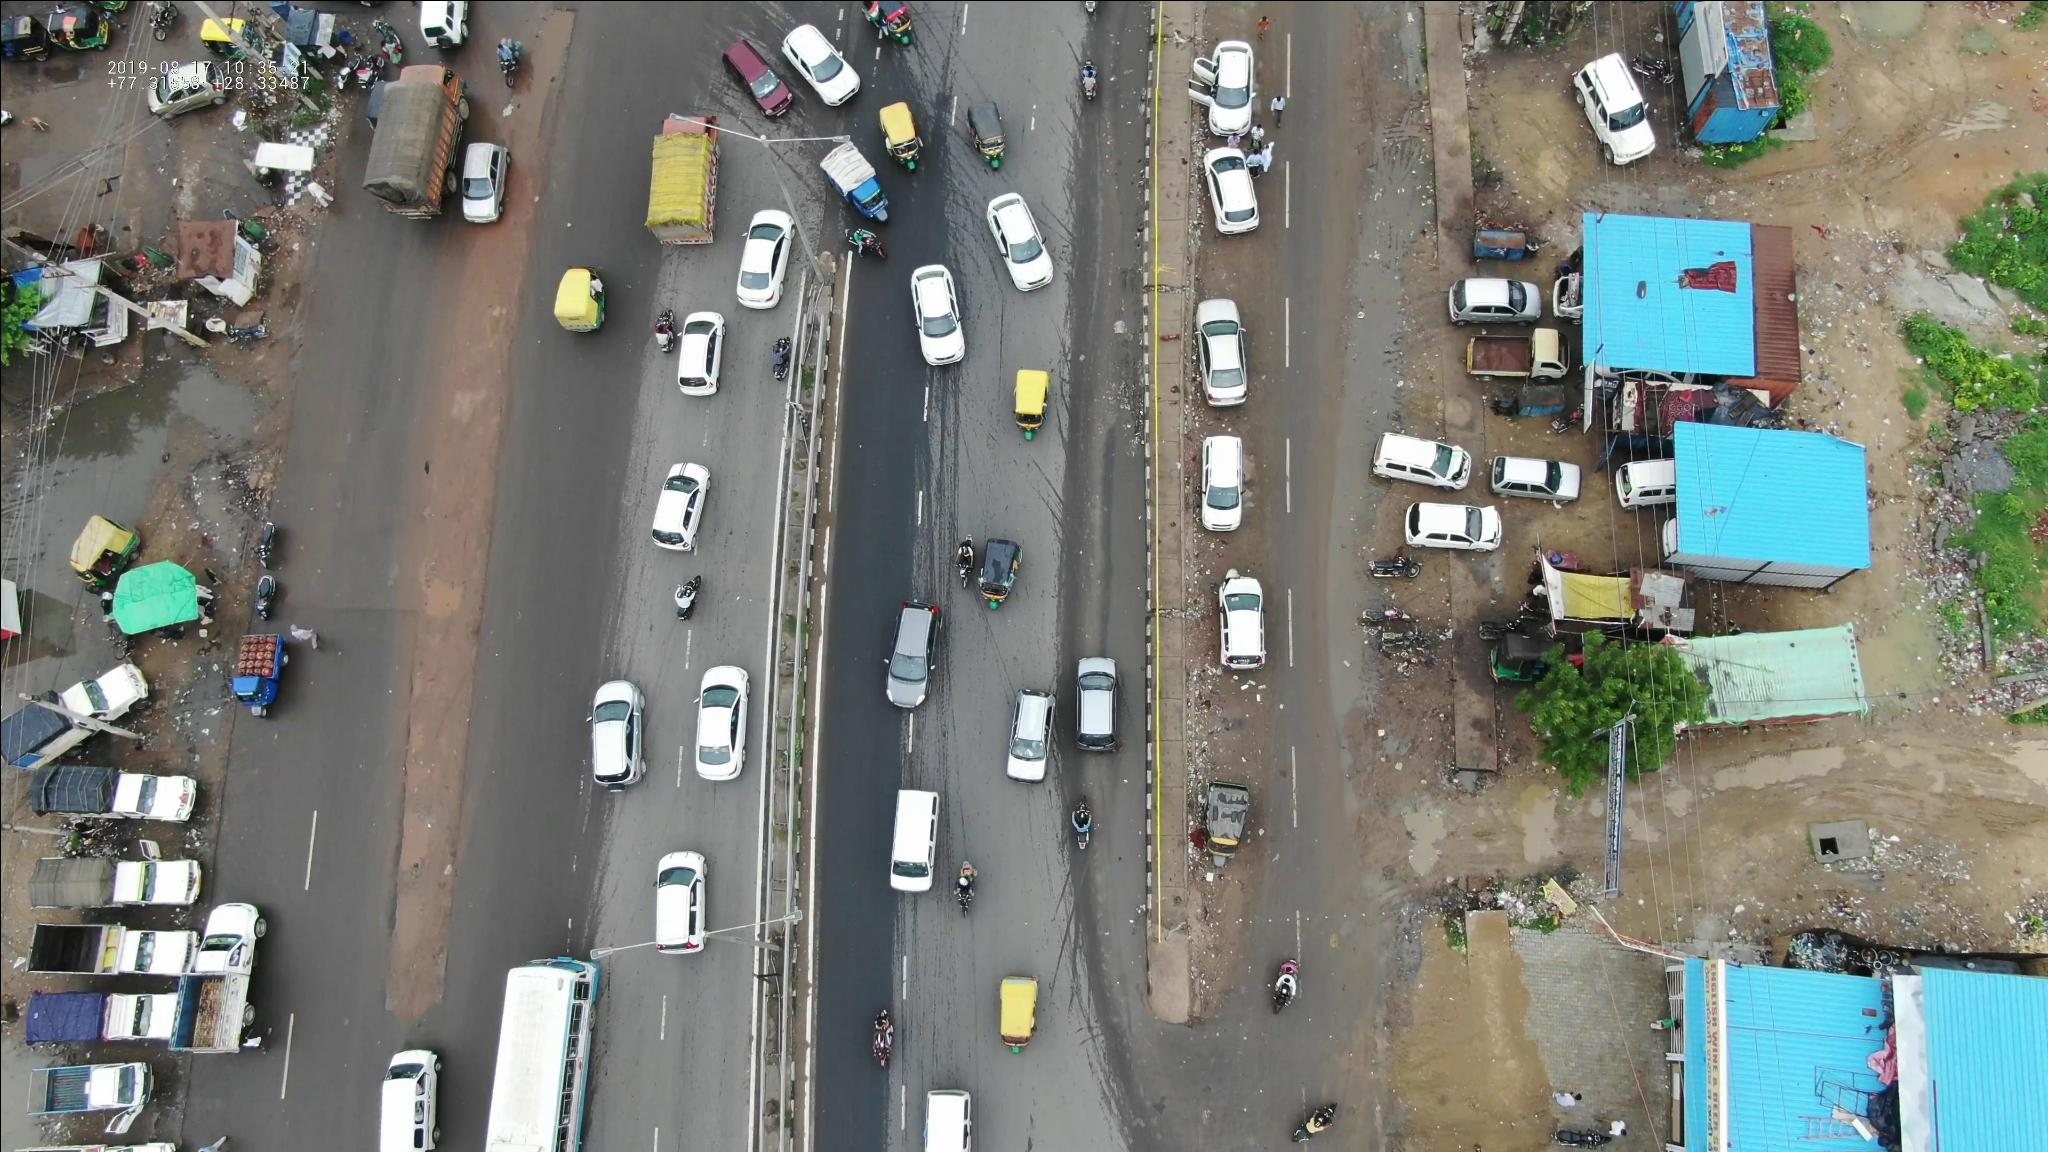Waterlogging: (1310, 301, 1405, 722)
